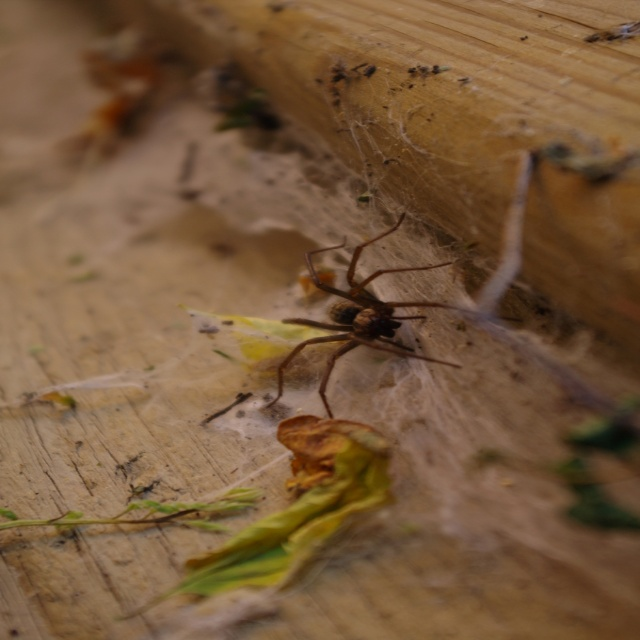Spider: (268, 212, 523, 419)
